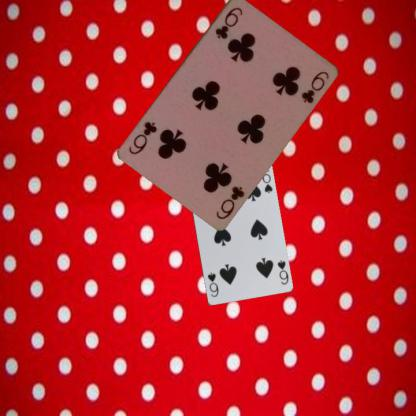6c: (213, 183, 246, 220), (212, 3, 244, 40)
6s: (274, 257, 290, 286)
